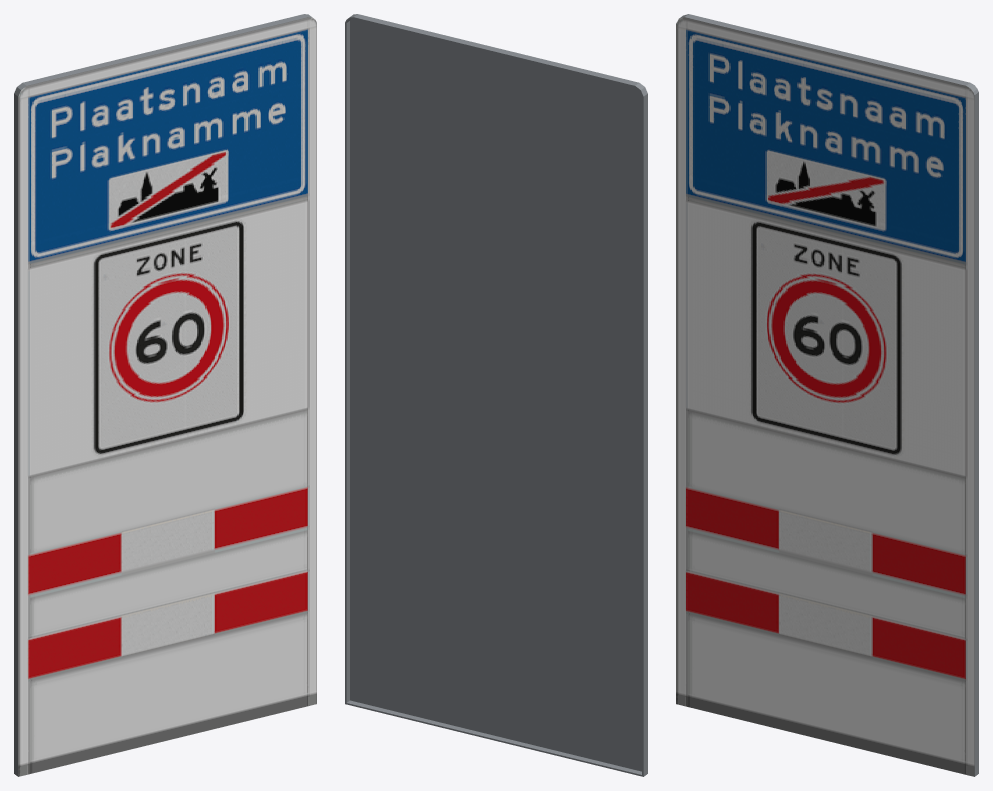
3 renders of one model, left to right at view 1: azimuth 30°, elevation 25°; view 2: azimuth 150°, elevation 25°; view 3: azimuth 330°, elevation 25°, orthographic.
Parts seen in each view (by area): view 1: cat_add08b1f3ea9c250; view 2: cat_add08b1f3ea9c250; view 3: cat_add08b1f3ea9c250.
Part boxes in pixels (box(x1,y1,x2,y2)): cat_add08b1f3ea9c250: box(14, 14, 316, 776); cat_add08b1f3ea9c250: box(345, 14, 647, 776); cat_add08b1f3ea9c250: box(676, 14, 978, 776).
Bounding box in the file's own units: 0.6 × 0.015 × 1.32.
2 materials, 1 textured.
